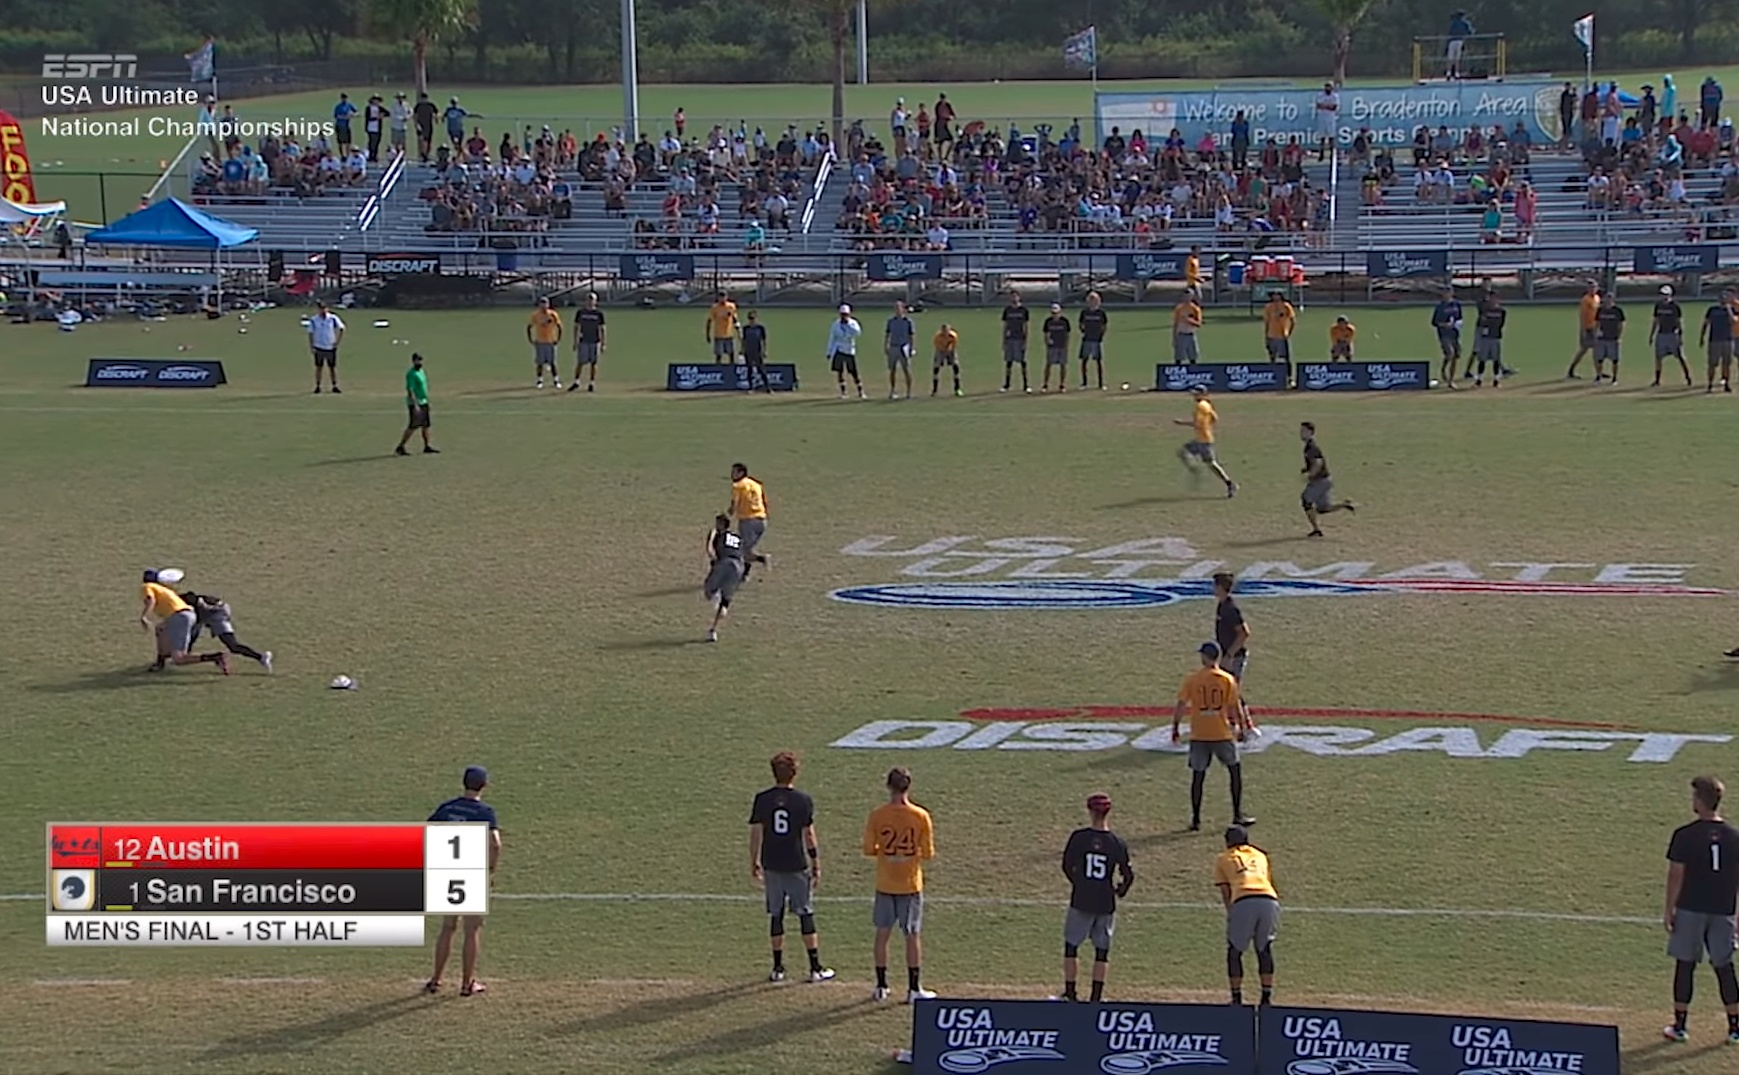frisbee: (157, 568, 185, 582), (373, 319, 390, 327)
